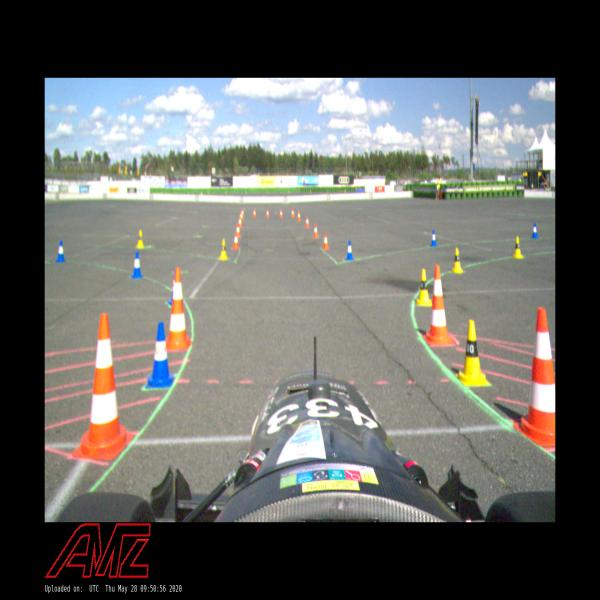blue_cone: (145, 323, 174, 389), (131, 251, 143, 279), (54, 238, 65, 262), (345, 238, 353, 260), (430, 227, 438, 247), (532, 223, 540, 238)
large_orange_cone: (72, 311, 134, 458), (516, 308, 555, 444), (161, 267, 192, 352), (422, 262, 455, 341)
orange_cone: (232, 232, 239, 251), (322, 229, 328, 250), (313, 224, 319, 238), (305, 214, 310, 228), (252, 208, 257, 218), (278, 208, 283, 218), (290, 206, 294, 218), (297, 210, 301, 221), (266, 208, 270, 218)
yellow_cone: (459, 316, 488, 386), (416, 266, 432, 308), (452, 246, 462, 274), (218, 237, 228, 260), (514, 236, 523, 258), (136, 228, 144, 249)
